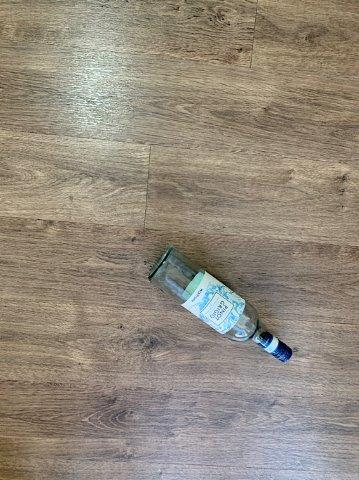botolkaca: (149, 248, 293, 362)
